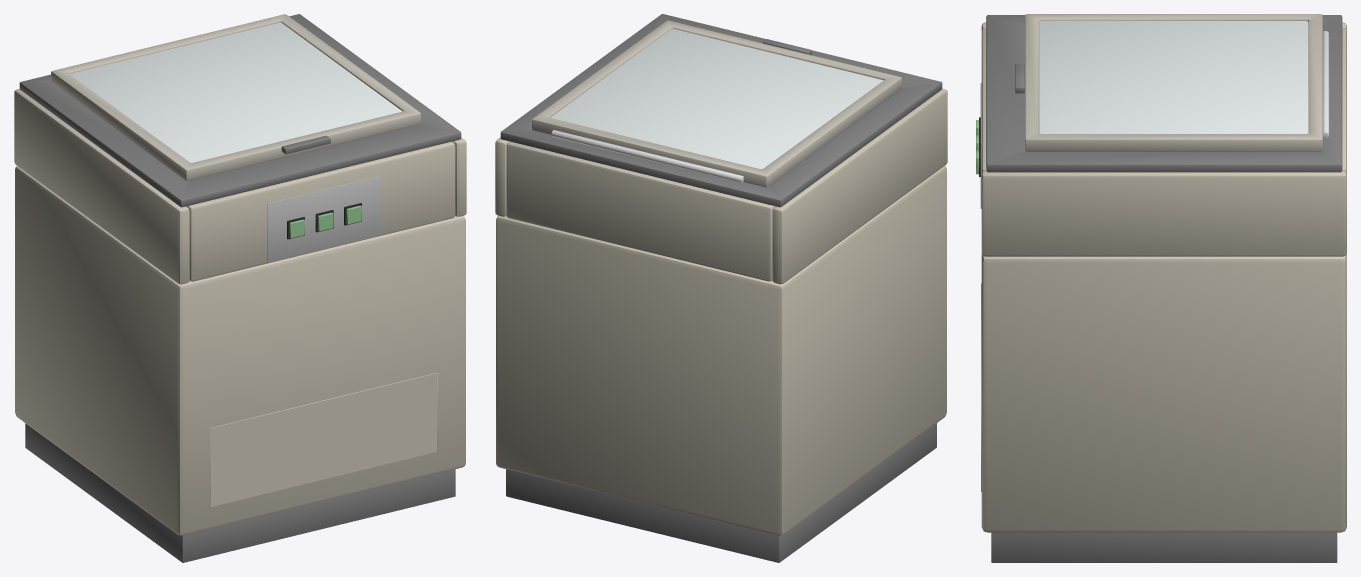
Rendered from Kit_SystemCabinet_DiskPack.fbx.
The picture shows the model from 3 angles, left to right: view 1: azimuth 30°, elevation 25°; view 2: azimuth 150°, elevation 25°; view 3: azimuth 270°, elevation 25°; orthographic projection. The views are drawn at different scales.
Visible parts, largest first — view 1: Kit_SystemCabinet_DiskPack_LOD0; view 2: Kit_SystemCabinet_DiskPack_LOD0; view 3: Kit_SystemCabinet_DiskPack_LOD0.
Part boxes in pixels (x1=…): Kit_SystemCabinet_DiskPack_LOD0: x1=14, y1=14, x2=466, y2=562; Kit_SystemCabinet_DiskPack_LOD0: x1=495, y1=14, x2=947, y2=562; Kit_SystemCabinet_DiskPack_LOD0: x1=976, y1=14, x2=1346, y2=562.
Size of what is drawn, in the model's own units: 0.76 by 0.952 by 0.7716.
